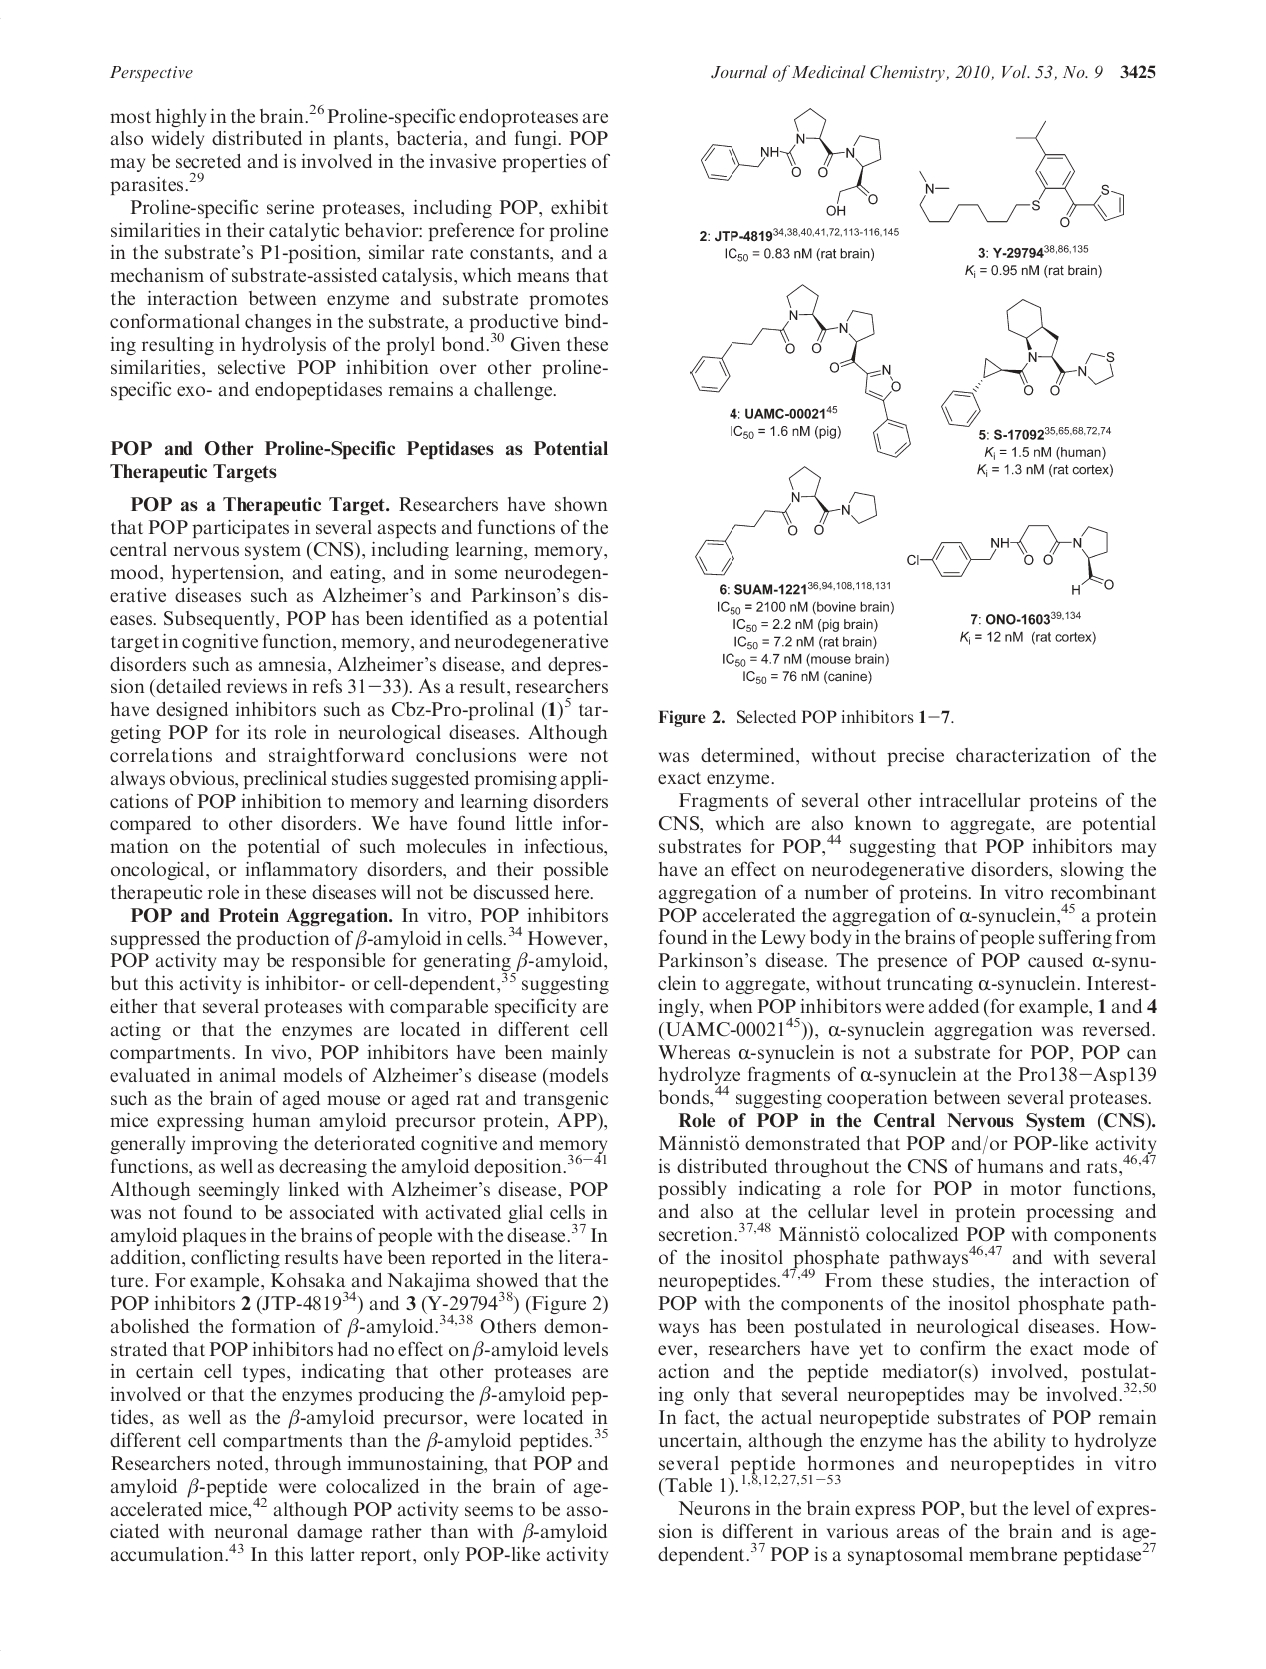exist_molecular: (685, 282, 912, 457), (942, 297, 1118, 430), (918, 118, 1126, 229), (699, 105, 884, 219), (696, 464, 880, 578), (907, 523, 1117, 597)
